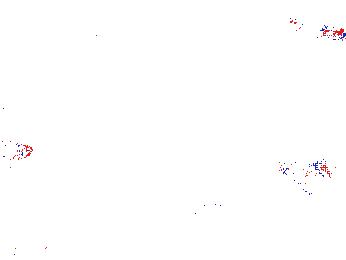X-ray fish: (193, 195, 247, 232), (4, 224, 33, 257)
red belly glassfish: (296, 21, 346, 40)
redtail glassfish: (264, 167, 316, 197), (277, 154, 332, 182), (193, 139, 232, 173), (1, 143, 35, 161)
